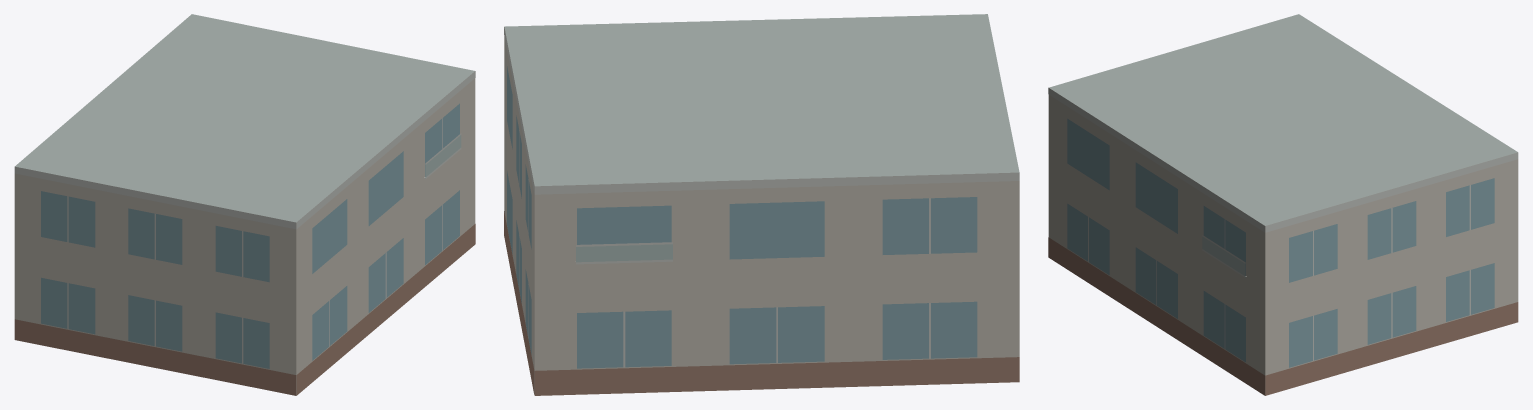
File: survey-upis-32657959.glb
The picture shows the model from 3 angles, left to right: view 1: azimuth 30°, elevation 25°; view 2: azimuth 150°, elevation 25°; view 3: azimuth 270°, elevation 25°; orthographic projection. The views are drawn at different scales.
Parts seen in each view (by area): view 1: survey-upis-32657959.tmp; view 2: survey-upis-32657959.tmp; view 3: survey-upis-32657959.tmp.
Part boxes in pixels (x1,y1,x2,y2): survey-upis-32657959.tmp: (14, 14, 475, 395); survey-upis-32657959.tmp: (504, 14, 1019, 395); survey-upis-32657959.tmp: (1048, 14, 1518, 395).
Bounding box in the file's own units: 16.34 × 6.1 × 15.3.
